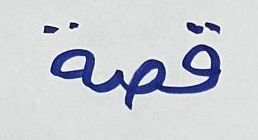qaf: (174, 14, 223, 98)
sad: (106, 49, 170, 112)
teh_marbota: (41, 18, 101, 97)
